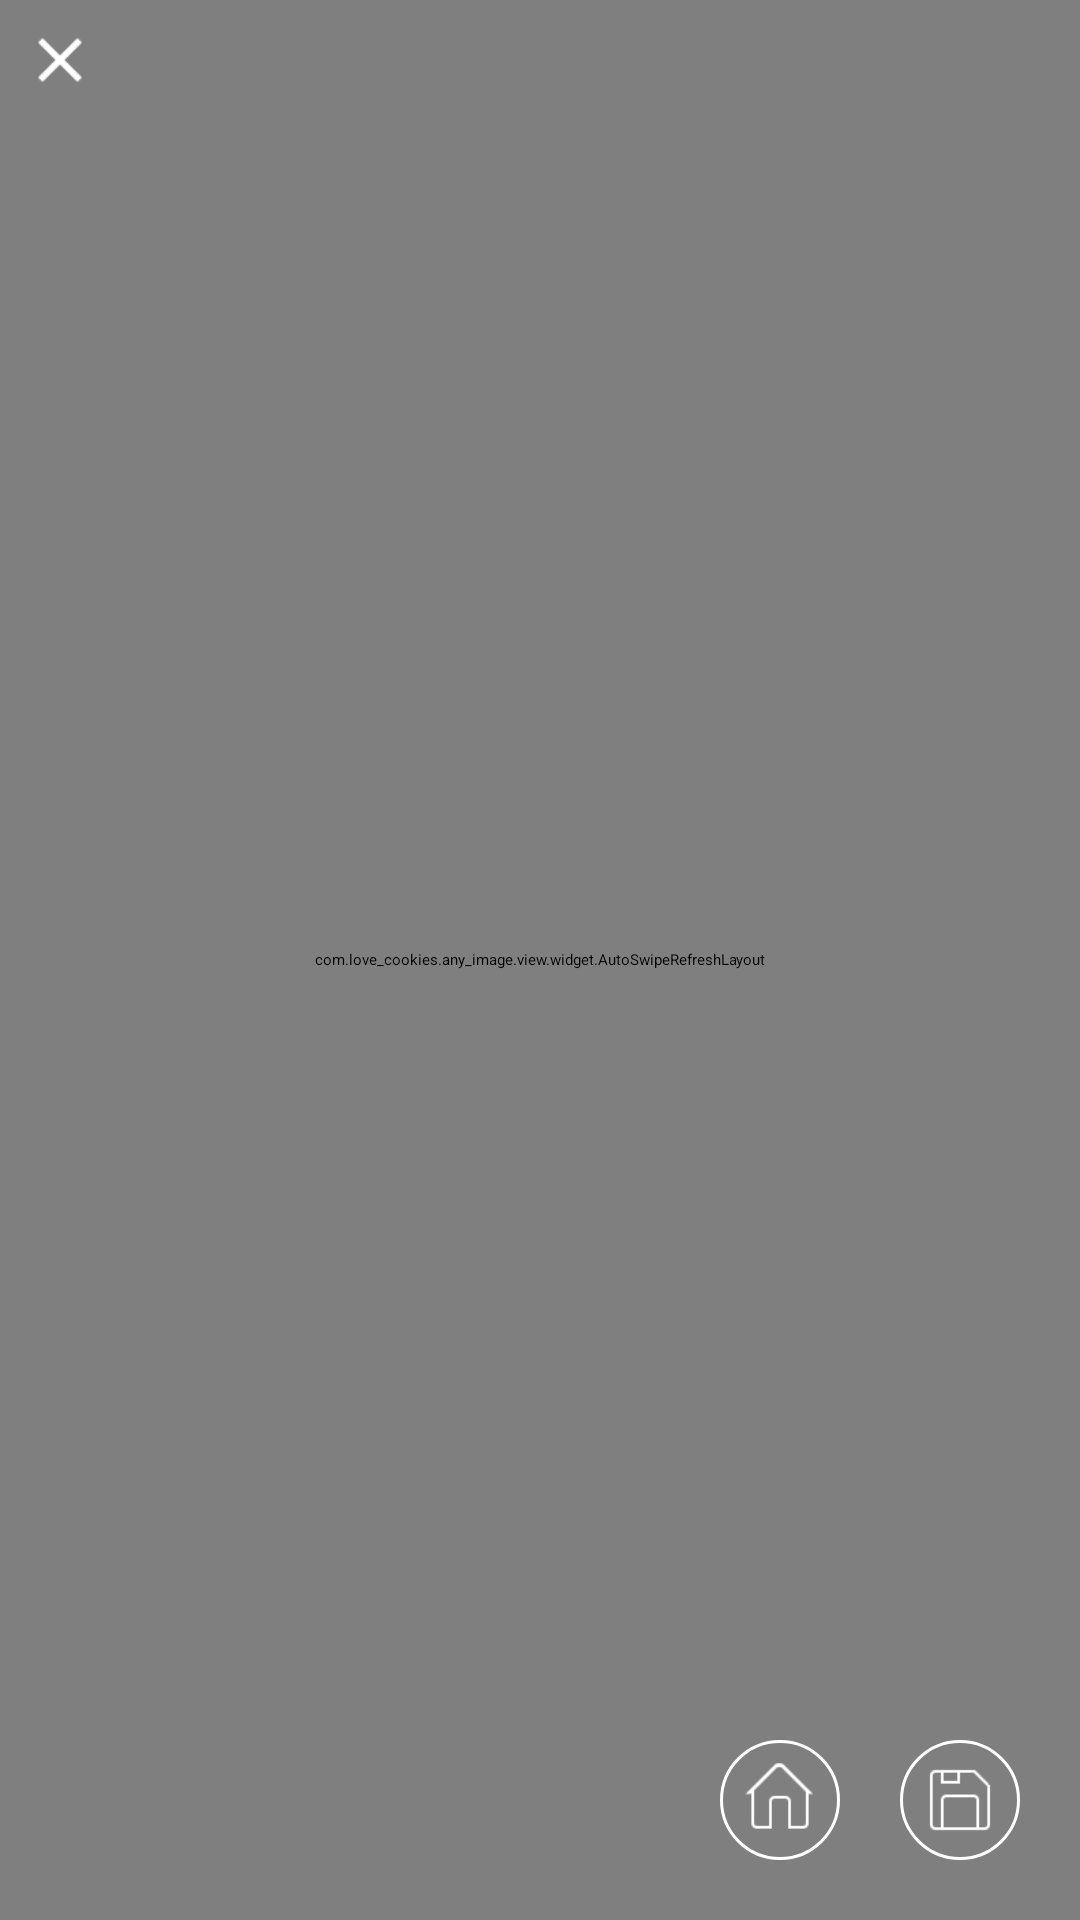

Where icons sit on this 1080×1920 app screen, as [x1=x1, y1=y1, x2=x2, y2=y2]:
close: [x1=38, y1=38, x2=82, y2=82]
home: [x1=720, y1=1740, x2=840, y2=1860]
save: [x1=900, y1=1740, x2=1020, y2=1860]
